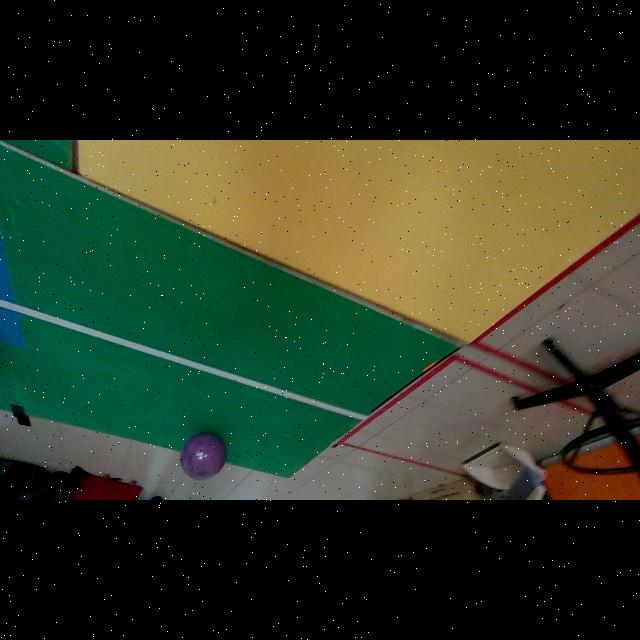P: (181, 433, 226, 480)
